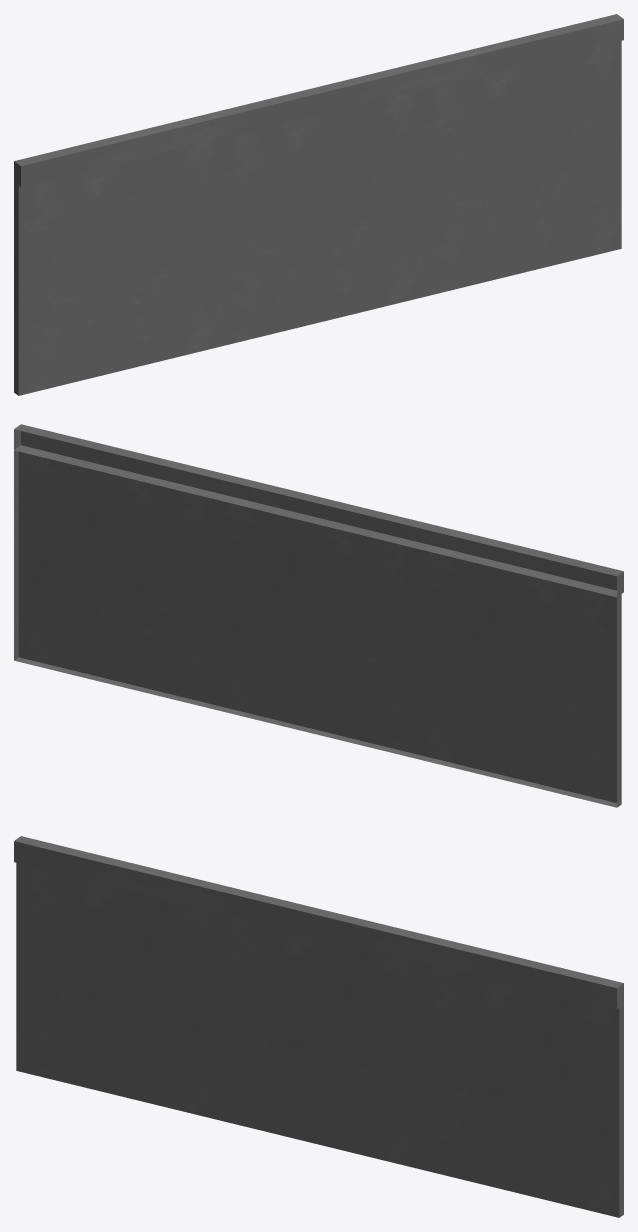
File: SM06_Building_WallPanel_Exterior_03_Top_01.fbx
3 renders of one model, top to bottom at view 1: azimuth 30°, elevation 25°; view 2: azimuth 150°, elevation 25°; view 3: azimuth 330°, elevation 25°, orthographic.
Visible parts, largest first — view 1: SM06_Building_WallPanel_Exterior_03_Top_01; view 2: SM06_Building_WallPanel_Exterior_03_Top_01; view 3: SM06_Building_WallPanel_Exterior_03_Top_01.
Boxes of the visible parts, x1,y1,x2,y2 form: SM06_Building_WallPanel_Exterior_03_Top_01: (14,14,623,395); SM06_Building_WallPanel_Exterior_03_Top_01: (14,424,623,807); SM06_Building_WallPanel_Exterior_03_Top_01: (14,836,623,1217).
Size of the model in its own units: 15 by 5.5 by 0.3.
